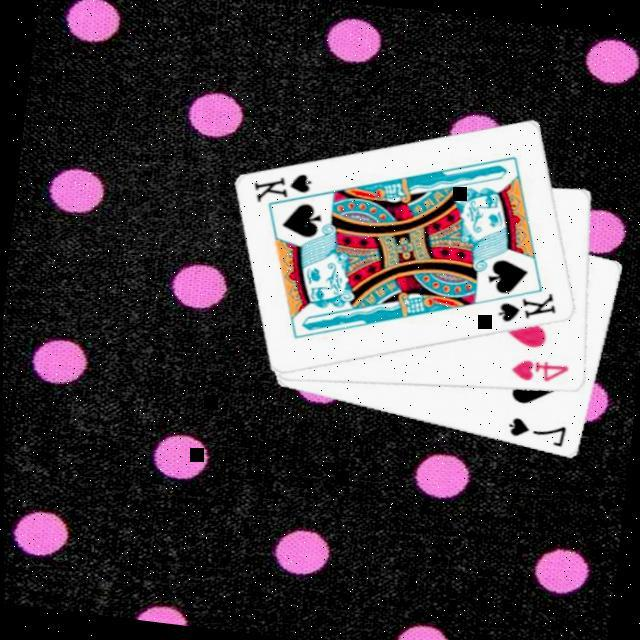4H: (507, 356, 572, 391)
7S: (503, 414, 570, 453)
KS: (248, 166, 325, 217), (493, 285, 561, 333)
